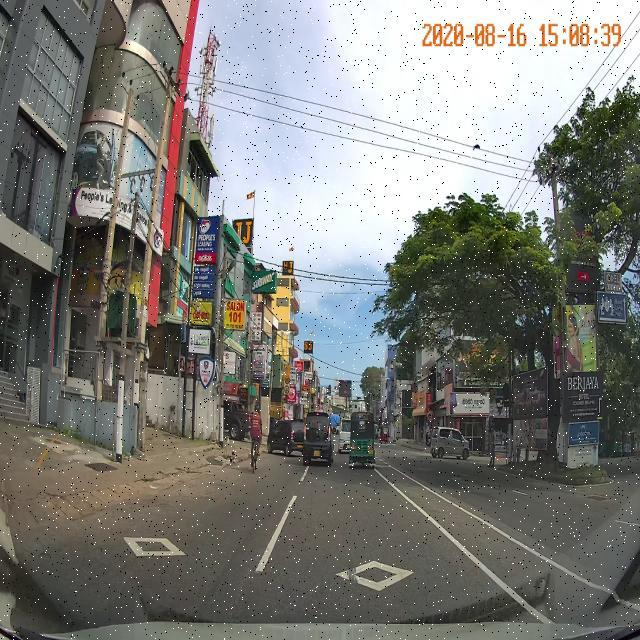diamond: (243, 555, 516, 595)
